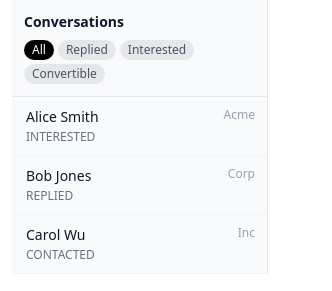
Test case: shows empty message when no leads match filter
Click the button "Convertible".
click(64, 74)  # box 24,64 -> 105,84
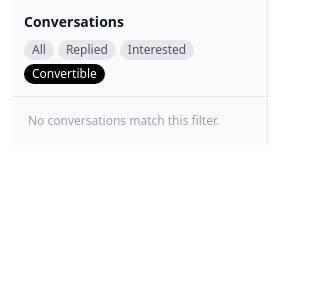
Expected: the text "No conversations match this filter." is shown, 28,112 -> 219,129
